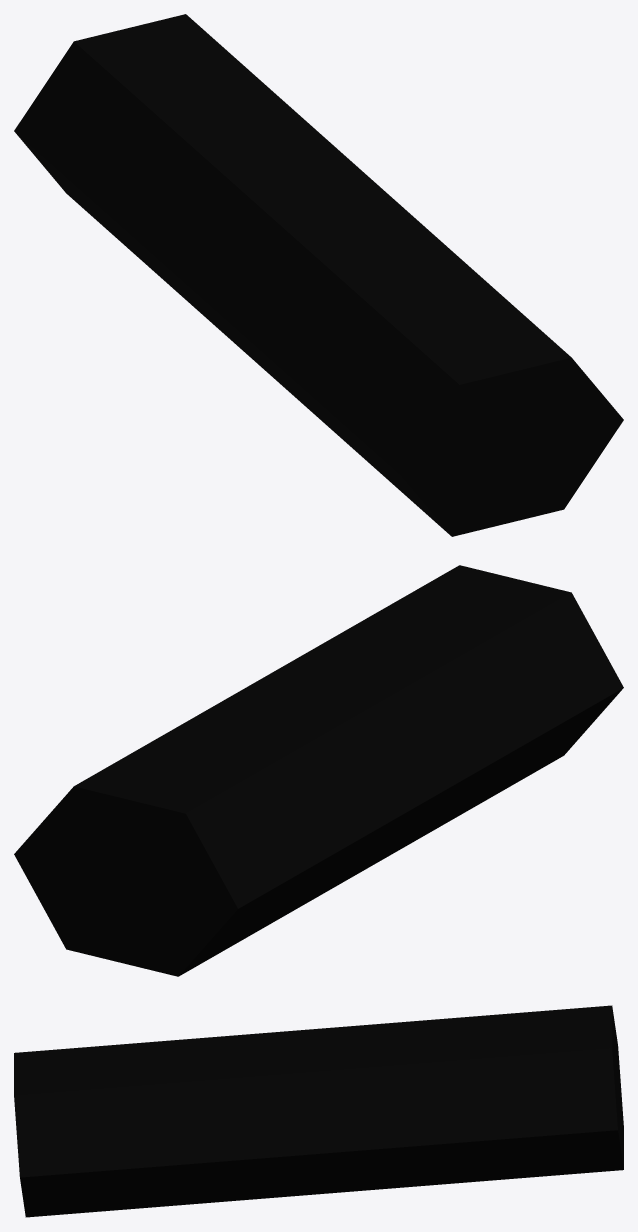
The model's file is yaw_damper_right_sleeve.obj.
3 renders of one model, top to bottom at view 1: azimuth 30°, elevation 25°; view 2: azimuth 150°, elevation 25°; view 3: azimuth 270°, elevation 25°, orthographic. The views are drawn at different scales.
Parts seen in each view (by area): view 1: 9f51d1b1-7ca4-9767-4986-5d6eacf6cf19; view 2: 9f51d1b1-7ca4-9767-4986-5d6eacf6cf19; view 3: 9f51d1b1-7ca4-9767-4986-5d6eacf6cf19.
Boxes of the visible parts, x1,y1,x2,y2 form: 9f51d1b1-7ca4-9767-4986-5d6eacf6cf19: (14,14,623,536); 9f51d1b1-7ca4-9767-4986-5d6eacf6cf19: (14,565,623,976); 9f51d1b1-7ca4-9767-4986-5d6eacf6cf19: (14,1005,623,1217).
Size of the model in its own units: 0.1483 by 0.1383 by 0.4508.
